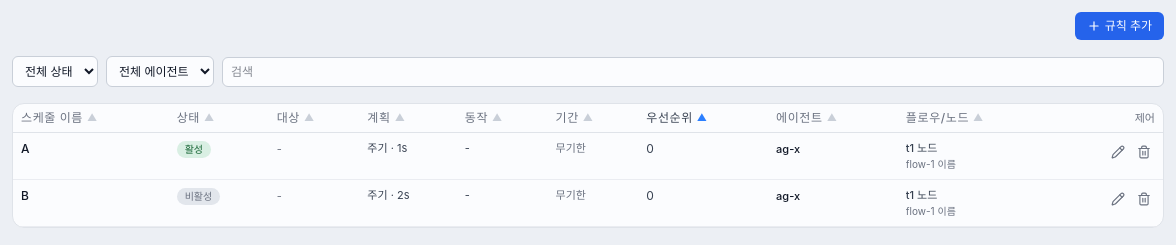
Scenario: 필터 바(상태/에이전트/검색) › 상태 필터를 "활성"으로 두면 비활성 행이 숨겨진다
expect the row with test id "schedule-row-flow-1-t1-0" is shown: met, box [13,132,1163,180]
expect the row with test id "schedule-row-flow-1-t1-1" is shown: met, box [13,180,1163,226]
Select "활성" in the dropdown with test id "schedule-filter-status" at (55, 72), box [12,56,98,87]
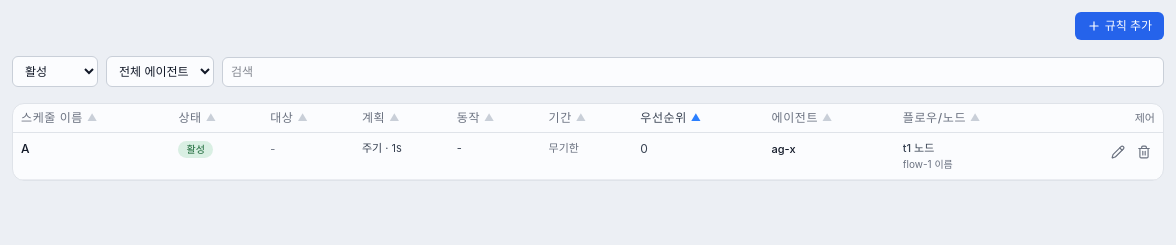
expect the row with test id "schedule-row-flow-1-t1-0" is shown: met, box [13,132,1163,180]
expect the row with test id "schedule-row-flow-1-t1-1" is gone: met
